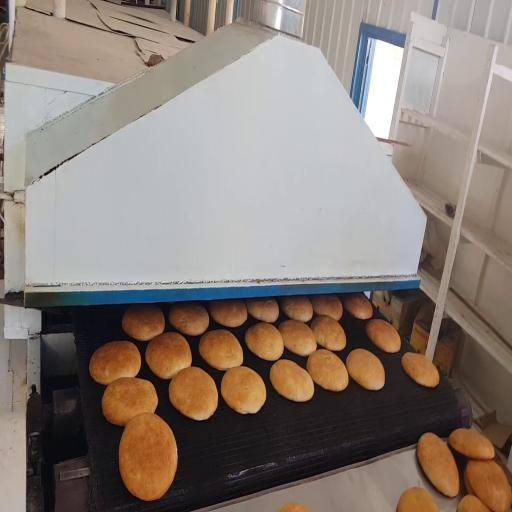bread: (119, 413, 177, 501), (417, 433, 459, 497), (102, 378, 158, 426), (169, 367, 218, 420), (89, 341, 141, 385), (466, 461, 511, 511), (221, 366, 266, 413), (146, 333, 191, 379), (270, 360, 314, 402), (199, 330, 243, 370), (307, 349, 348, 391), (346, 349, 385, 390), (122, 304, 165, 341), (245, 322, 283, 360), (449, 429, 494, 459), (279, 320, 316, 356), (169, 303, 209, 336), (402, 353, 439, 387), (311, 316, 346, 351), (366, 319, 401, 353), (210, 300, 247, 327), (397, 487, 438, 511), (342, 293, 373, 320), (281, 296, 313, 322), (246, 298, 279, 323), (311, 295, 342, 320), (458, 495, 490, 511), (463, 468, 474, 494), (280, 503, 308, 511)
